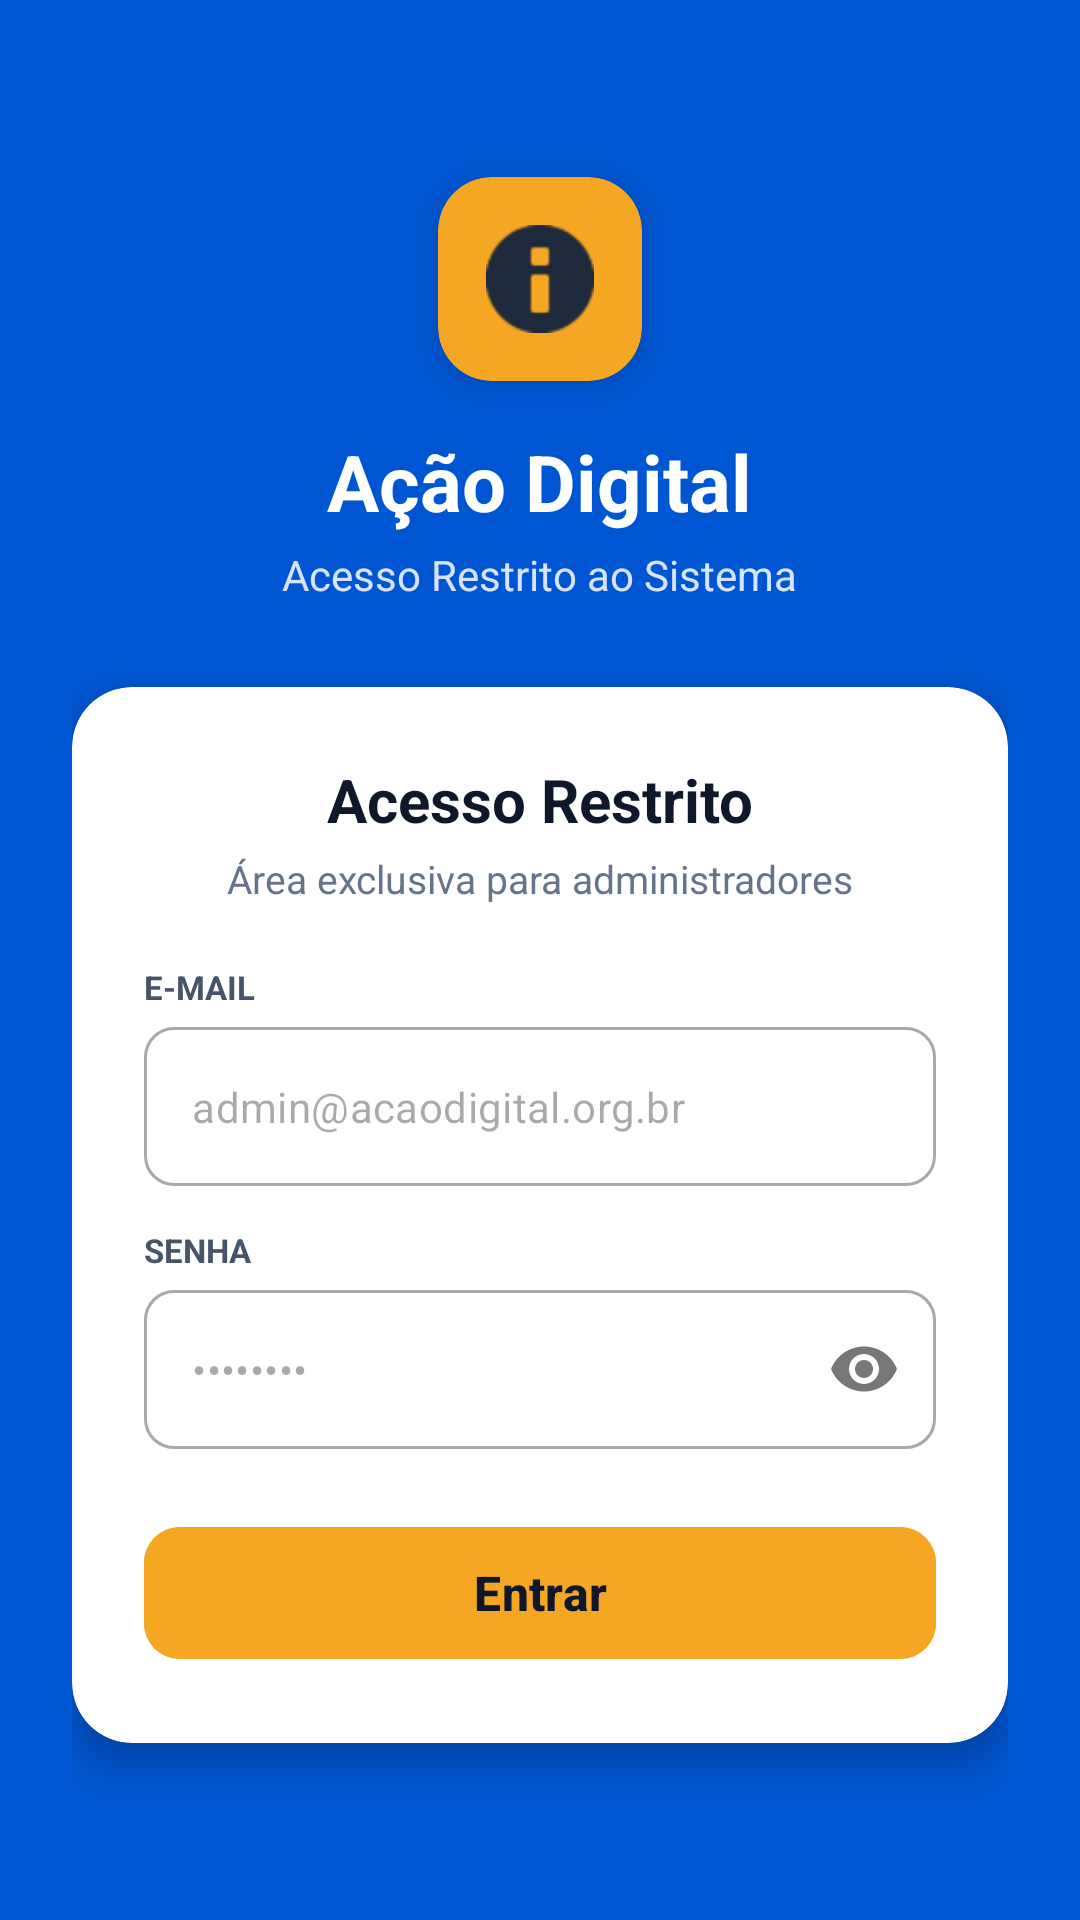

Where icons sit on this 1080px×1920px app screen, as (x1, y1, x2, y2):
info: (486, 225, 594, 333)
